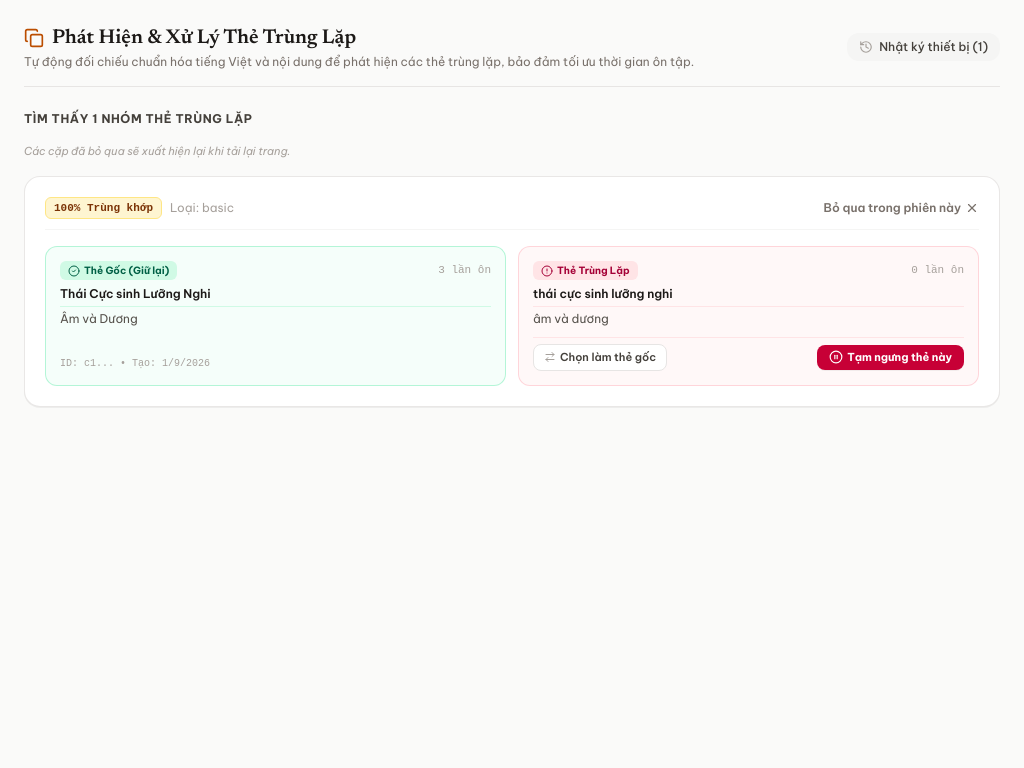
Test: Phase F6.9: DuplicateDetectionDashboard Component › opens and displays audit logs modal
Expected: the text "Phát Hiện & Xử Lý Thẻ Trùng Lặp" is shown, [52,24,356,52]
Click the button with test id "btn-view-audit-logs" at (924, 47), box [847,33,1000,61]
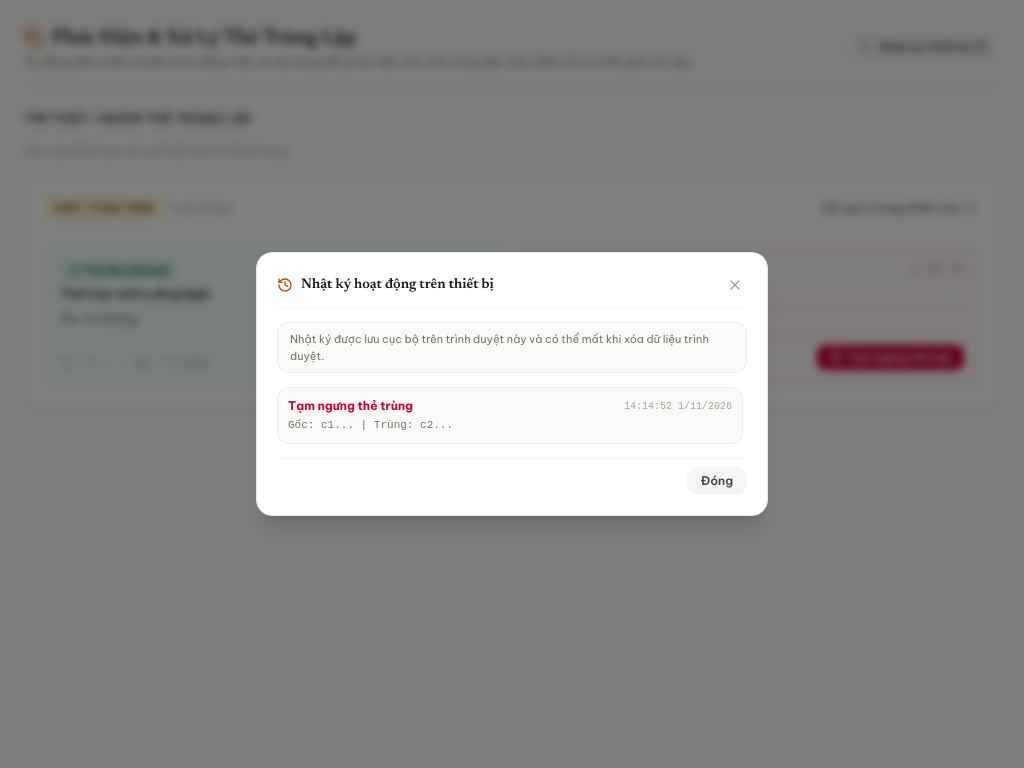
Now the text "Nhật ký hoạt động trên thiết bị" is shown, box [301,275,494,295]
Now the text "Tạm ngưng thẻ trùng" is shown, box [288,398,413,414]
Click the button "Đóng" at (717, 481), box [687,467,747,495]
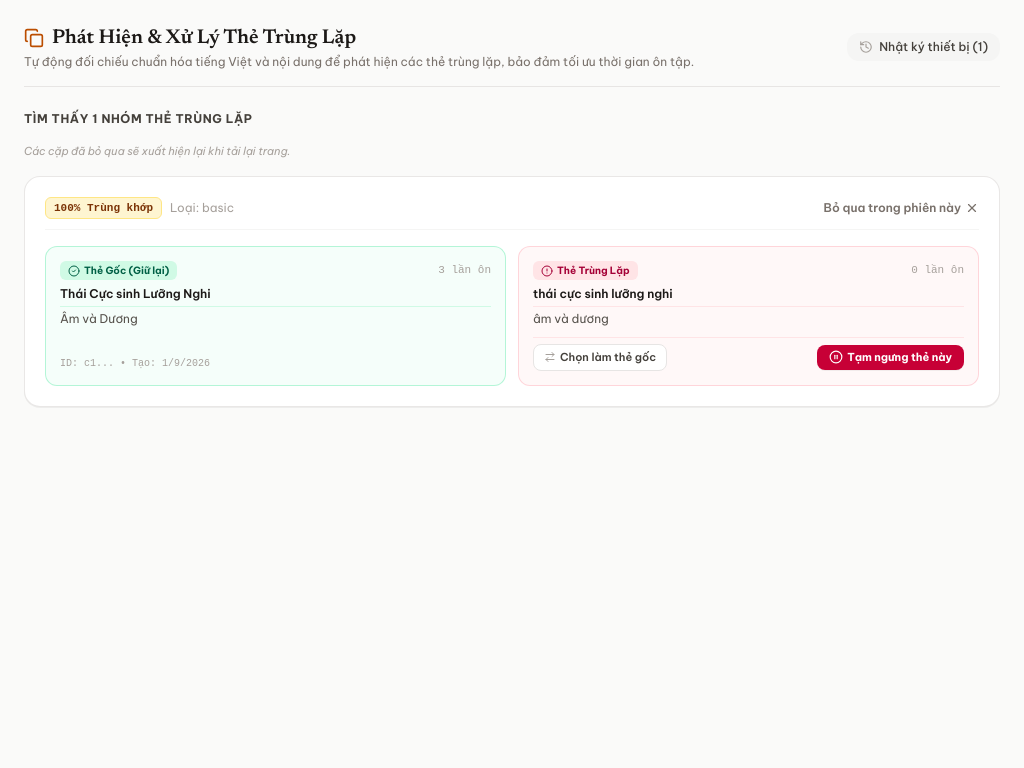
Now the text "Nhật ký hoạt động trên thiết bị" is gone
